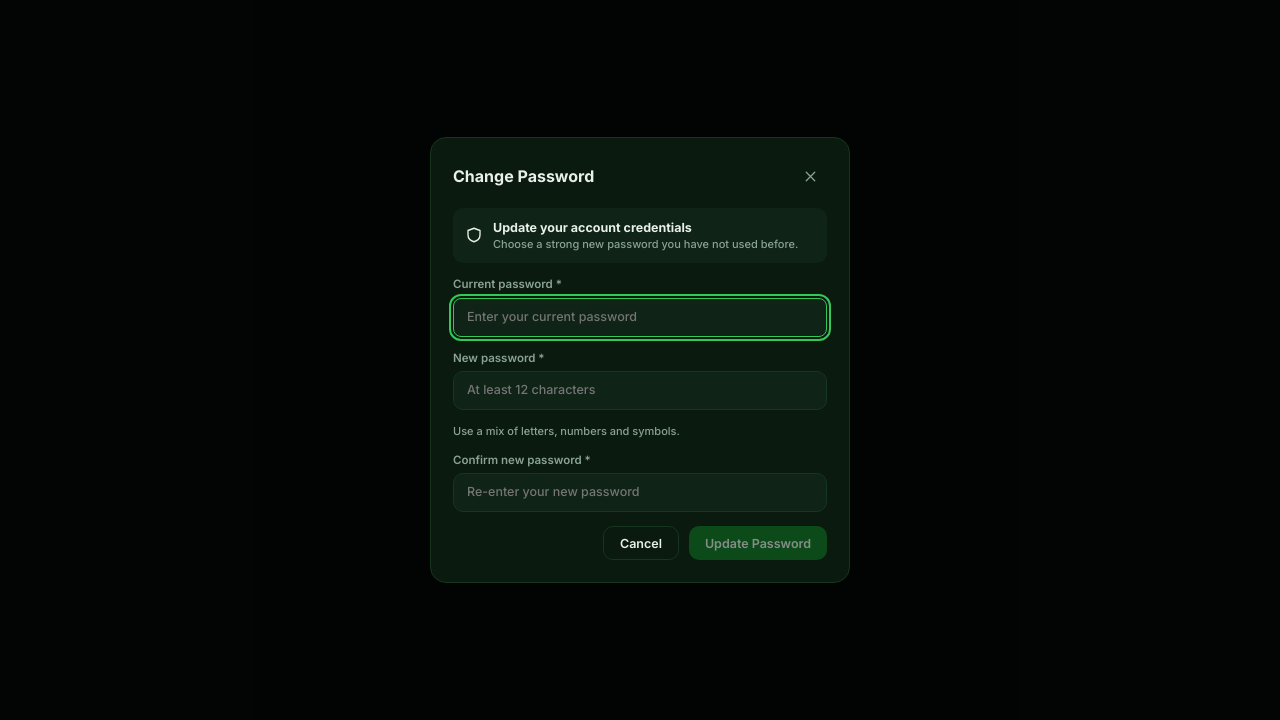
Test: ChangePassword › refuses a confirmation that does not match
Type "old-password-1" into the password field labelled "Current password *" at [640, 317], box x1=453 y1=298 x2=827 y2=337
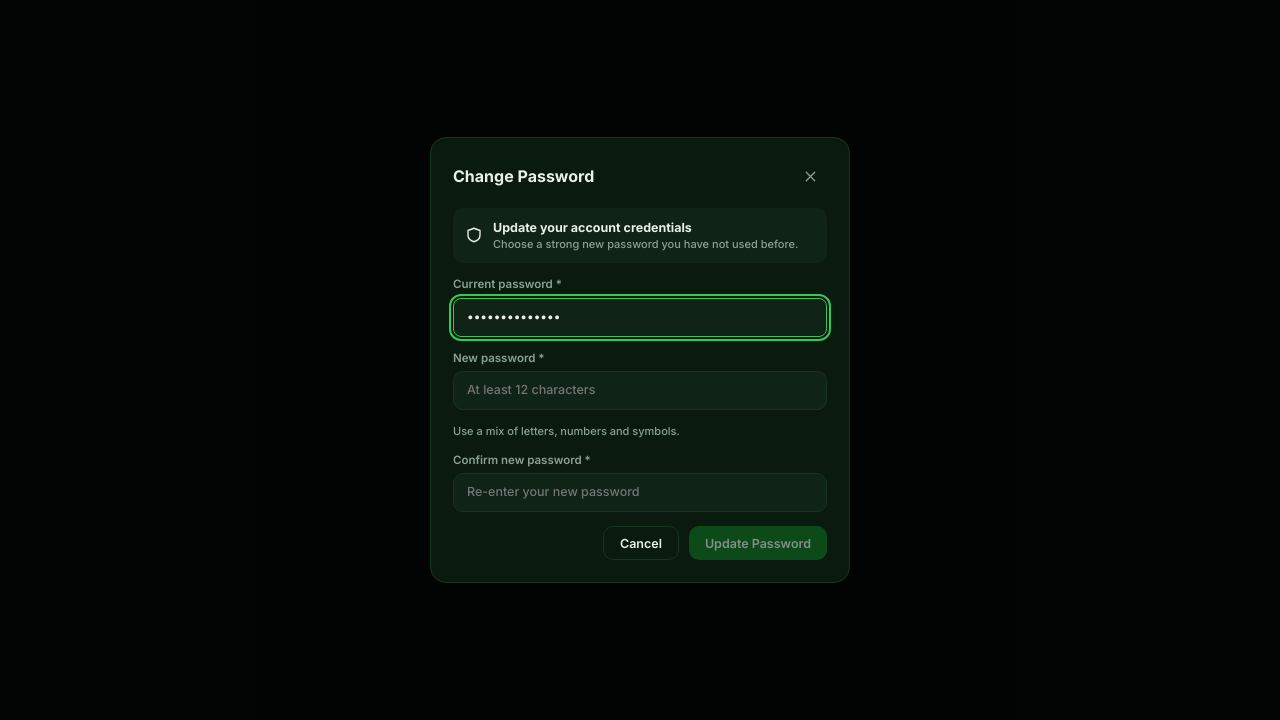
Type "brand-new-pass-7" into the password field labelled "New password *" at [640, 391], box x1=453 y1=371 x2=827 y2=410
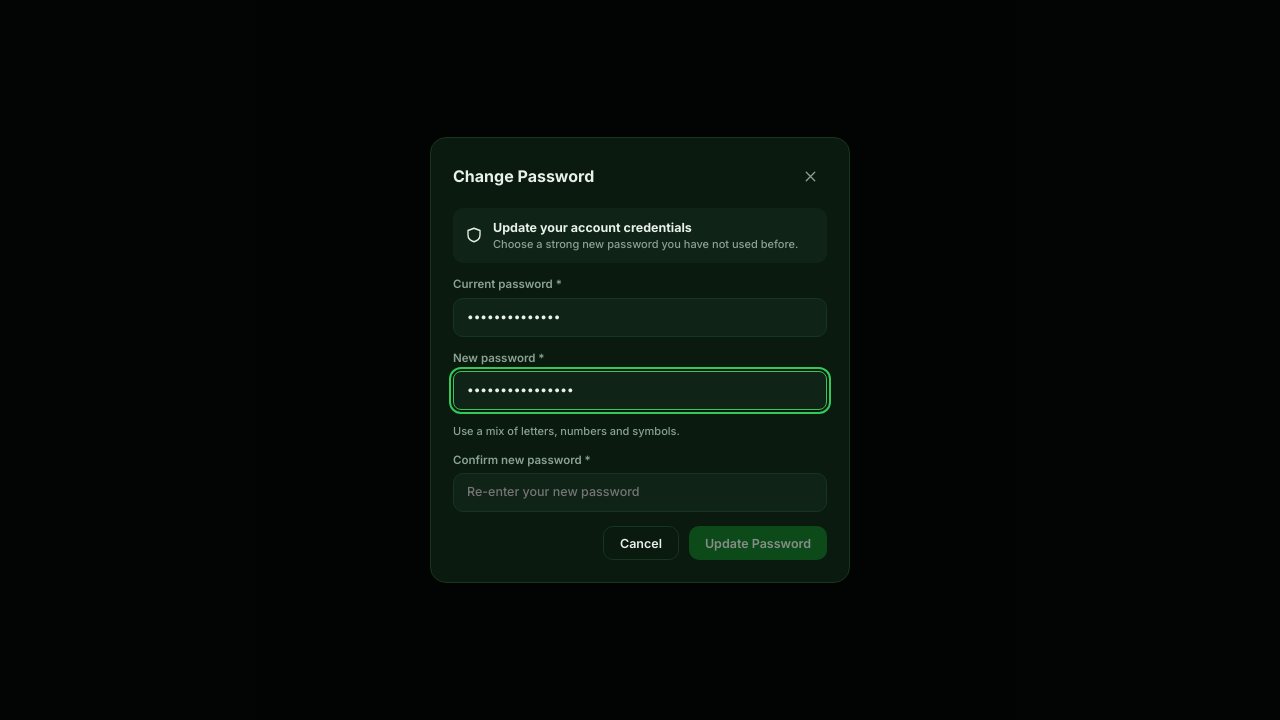
Type "brand-new-pass-8" into the password field labelled "Confirm new password *" at [640, 493], box x1=453 y1=474 x2=827 y2=512
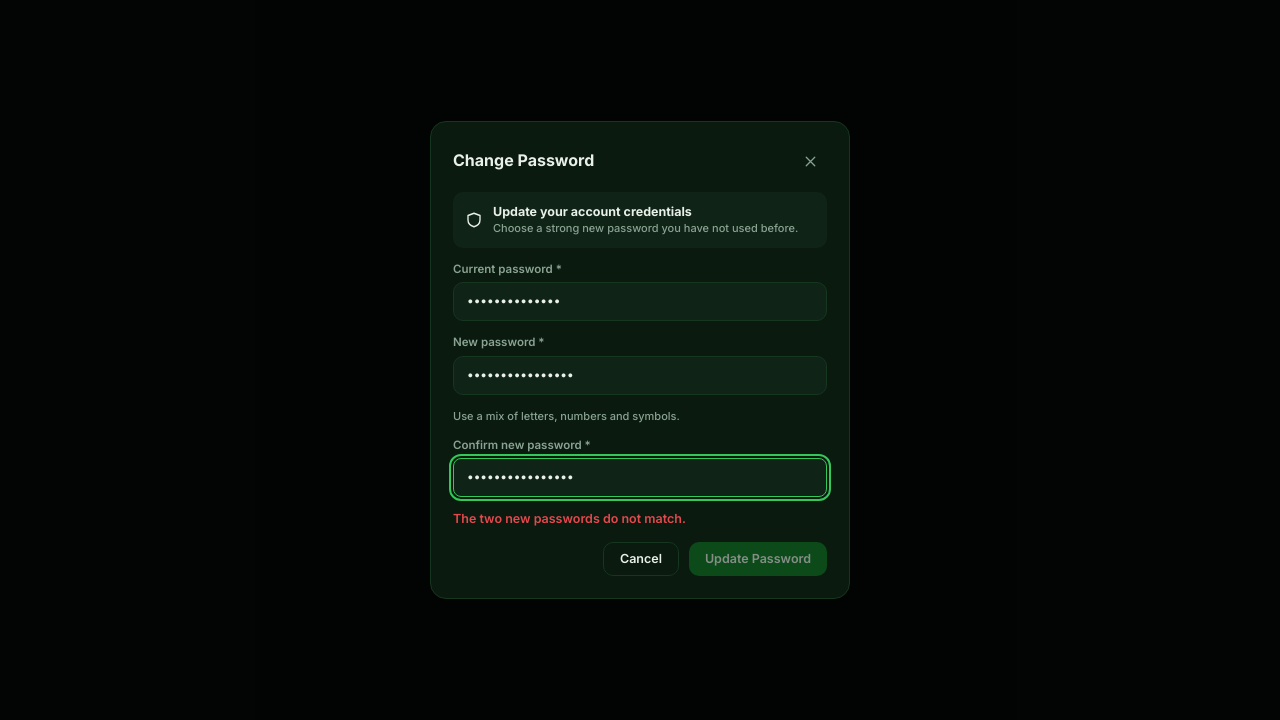
Check: the message shows "do not match", box x1=453 y1=511 x2=686 y2=526
